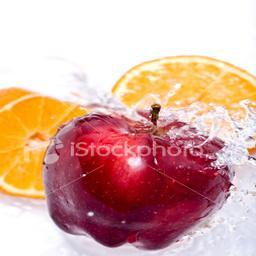apple: (40, 110, 236, 249)
